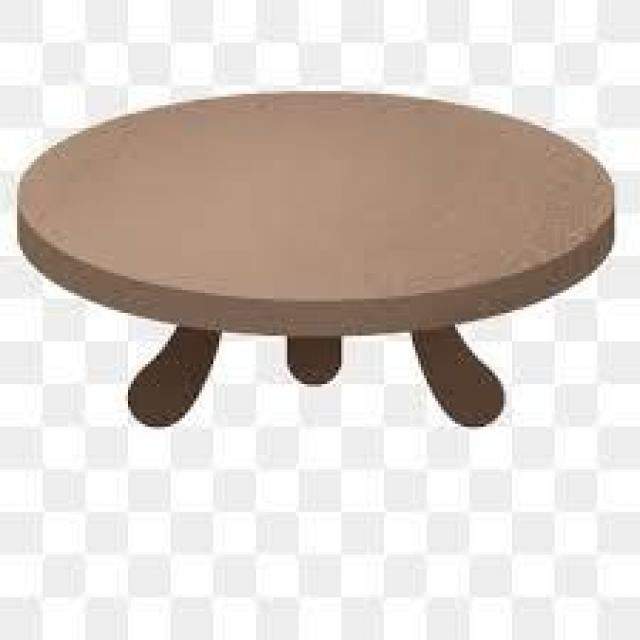table: (6, 74, 626, 472)
